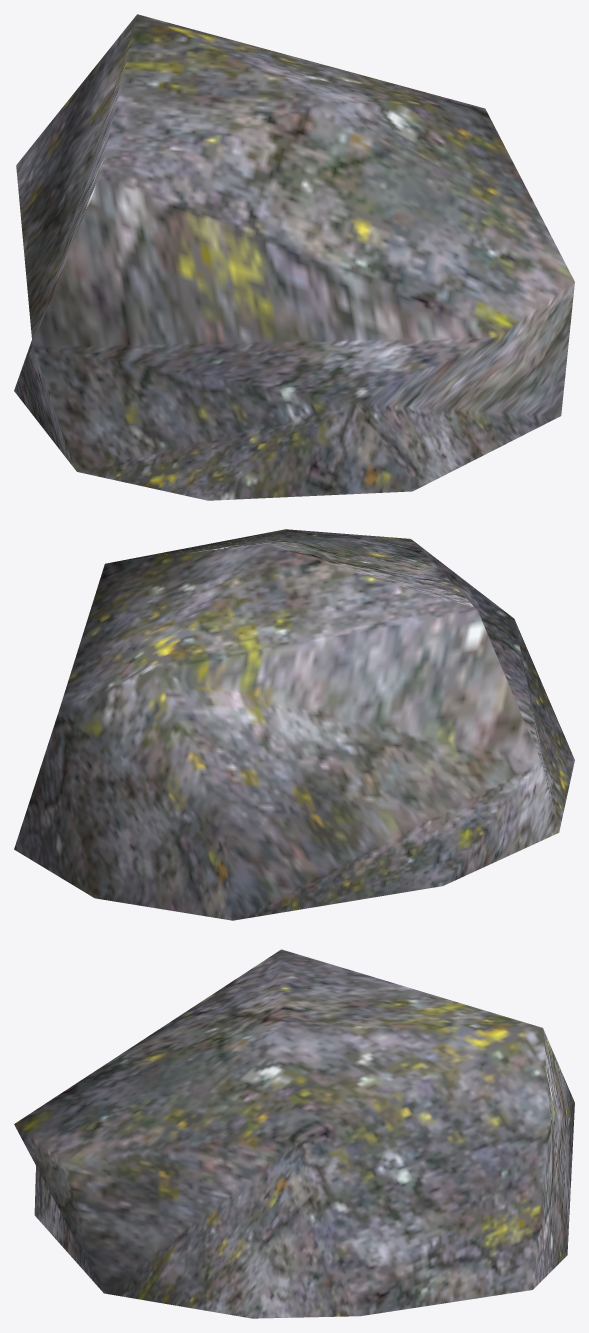
File: rock_weatheredmossy_medium_l1.fbx
The picture shows the model from 3 angles, top to bottom: view 1: azimuth 30°, elevation 25°; view 2: azimuth 150°, elevation 25°; view 3: azimuth 270°, elevation 25°; orthographic projection. The views are drawn at different scales.
Parts seen in each view (by area): view 1: mesh_node; view 2: mesh_node; view 3: mesh_node.
Boxes of the visible parts, box(x1,y1,x2,y2) form: mesh_node: box(14, 14, 574, 500); mesh_node: box(14, 529, 574, 920); mesh_node: box(14, 949, 574, 1318).
Size of the model in its own units: 0.401 by 0.2082 by 0.471.
1 material, 1 textured.
